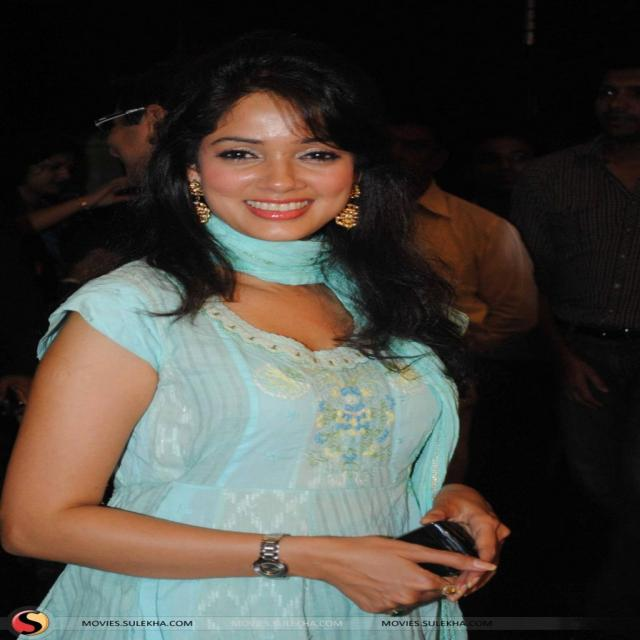Face: (187, 102, 362, 244)
